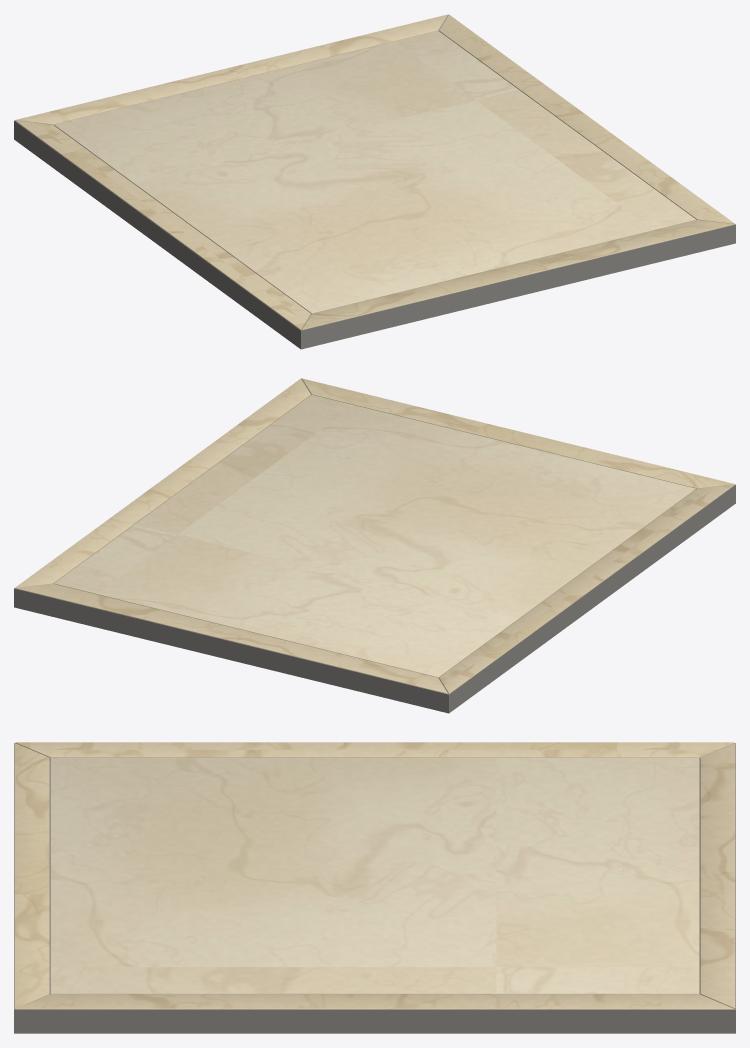
The model's file is floor_KA-DB005.glb.
The picture shows the model from 3 angles, top to bottom: view 1: azimuth 30°, elevation 25°; view 2: azimuth 150°, elevation 25°; view 3: azimuth 270°, elevation 25°; orthographic projection. The views are drawn at different scales.
Visible parts, largest first — view 1: Floor; view 2: Floor; view 3: Floor.
Boxes of the visible parts, bbox=[...] form: Floor: bbox=[14, 14, 735, 349]; Floor: bbox=[14, 378, 735, 713]; Floor: bbox=[14, 742, 735, 1033].
Bounding box in the file's own units: 1.4 × 0.06 × 1.6.
3 materials, 2 textured.
